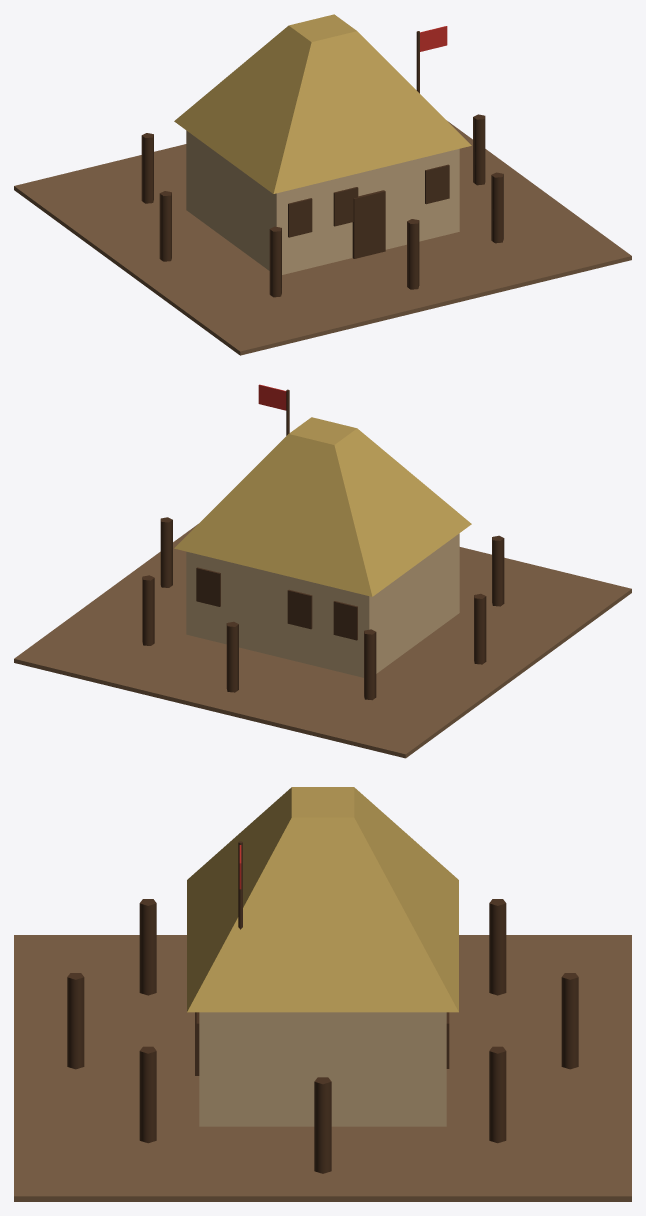
The model's file is bld_special_command_center_a01.glb.
3 views of the same model, one above another, from view 1: azimuth 30°, elevation 25°; view 2: azimuth 150°, elevation 25°; view 3: azimuth 270°, elevation 25° (orthographic). The views are drawn at different scales.
Parts seen in each view (by area): view 1: body; view 2: body; view 3: body.
Boxes of the visible parts, x1=… form: body: x1=14, y1=14, x2=631, y2=355; body: x1=14, y1=384, x2=631, y2=758; body: x1=14, y1=787, x2=631, y2=1201.
Size of what is drawn, in the model's own units: 15 by 7.3 by 15.
